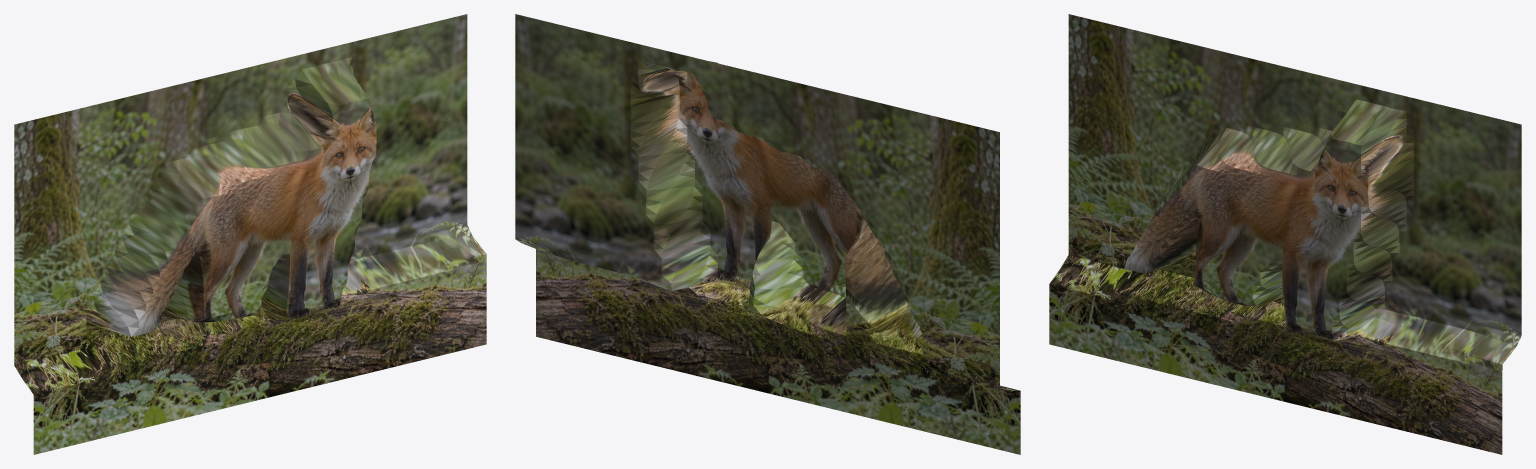
Rendered from source_relief.obj.
3 views of the same model, side by side, from view 1: azimuth 30°, elevation 25°; view 2: azimuth 150°, elevation 25°; view 3: azimuth 330°, elevation 25° (orthographic). The views are drawn at different scales.
Visible parts, largest first — view 1: photo_relief; view 2: photo_relief; view 3: photo_relief.
Boxes of the visible parts, x1=… form: photo_relief: x1=14, y1=14, x2=486, y2=454; photo_relief: x1=515, y1=14, x2=1020, y2=454; photo_relief: x1=1049, y1=14, x2=1521, y2=454.
Bounding box in the file's own units: 1.5 × 1 × 0.18.
Materials: 1 (1 with a texture image).
